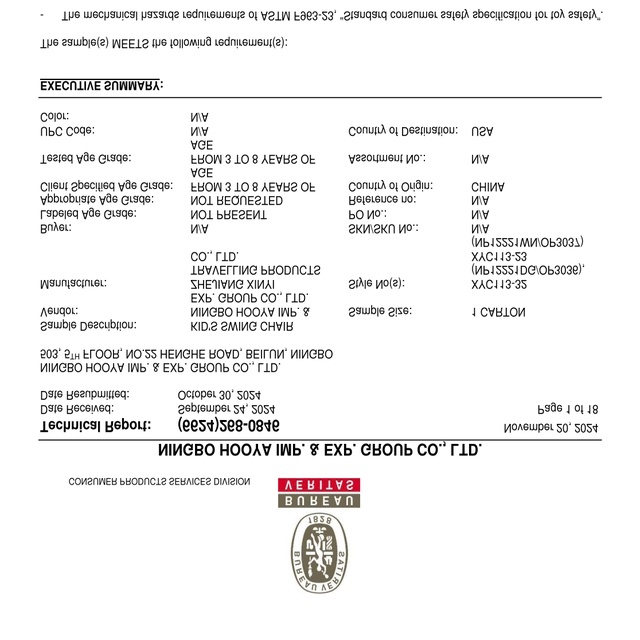bureau_veritas: (276, 478, 362, 598)
